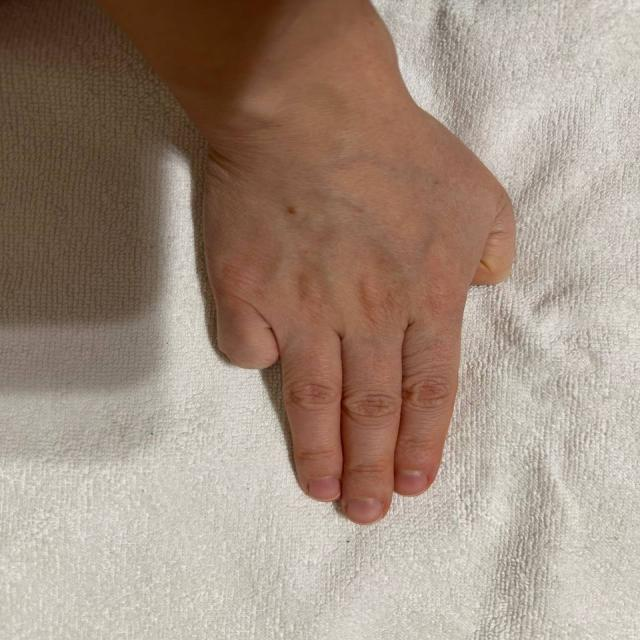t: (120, 66, 529, 532)
